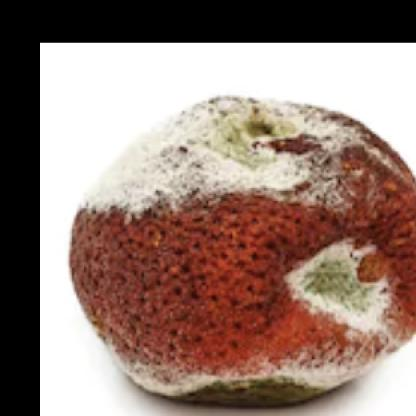rotten: (68, 93, 416, 409)
